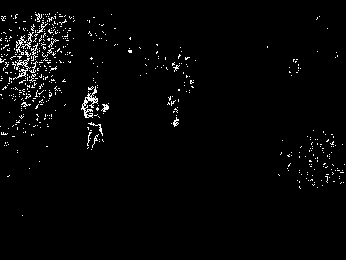person: (82, 84, 109, 154)
